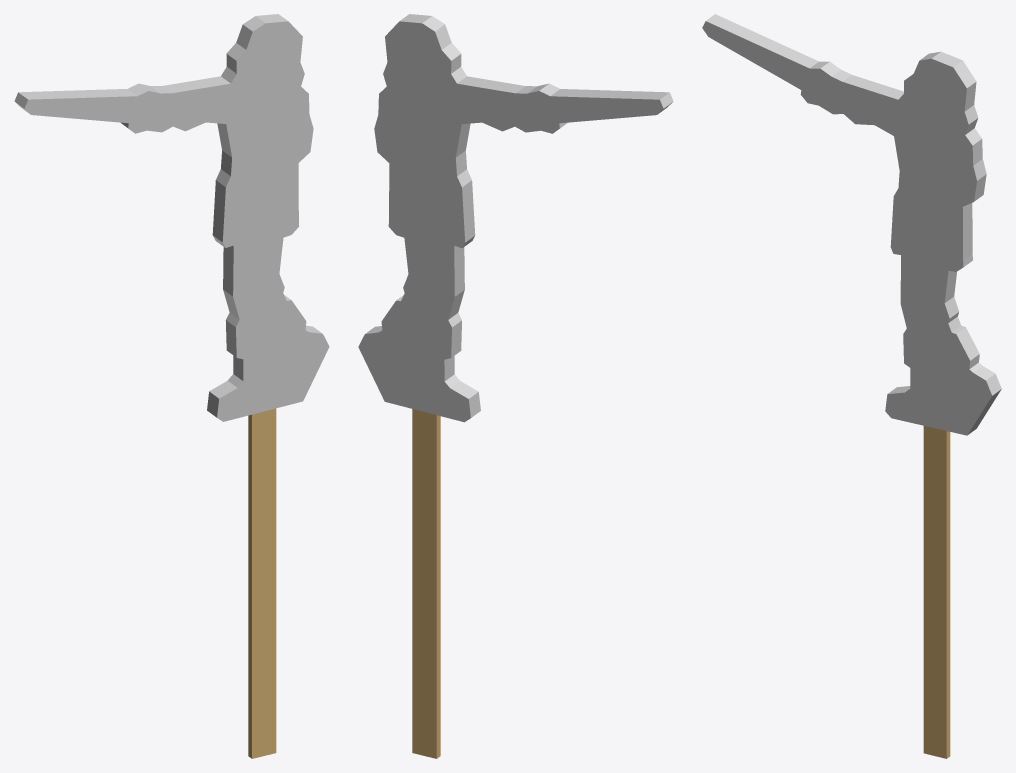
File: FQ_Attack.fbx
3 renders of one model, left to right at view 1: azimuth 30°, elevation 25°; view 2: azimuth 150°, elevation 25°; view 3: azimuth 330°, elevation 25°, orthographic. The views are drawn at different scales.
Visible parts, largest first — view 1: FQAttackBaked; view 2: FQAttackBaked; view 3: FQAttackBaked.
Boxes of the visible parts, x1,y1,x2,y2 form: FQAttackBaked: (14,14,329,758); FQAttackBaked: (358,14,673,758); FQAttackBaked: (702,14,1001,758).
Bounding box in the file's own units: 368 × 848 × 21.04.
